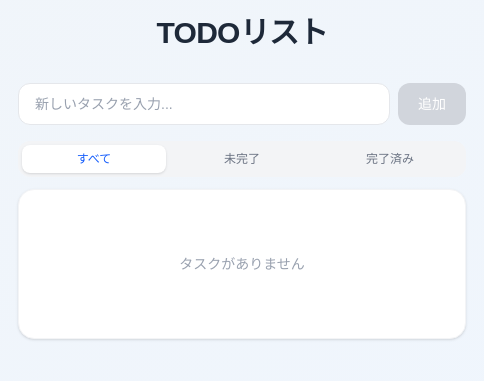
Test case: TodoApp › フィルター › フィルターに一致するTODOがない場合は対応するメッセージを表示する
Expected: the heading "TODOリスト" is shown, [157, 16, 328, 49]
Type "未完了タスク" into the field with placeholder "新しいタスクを入力..." at (204, 104), box [18, 83, 390, 125]
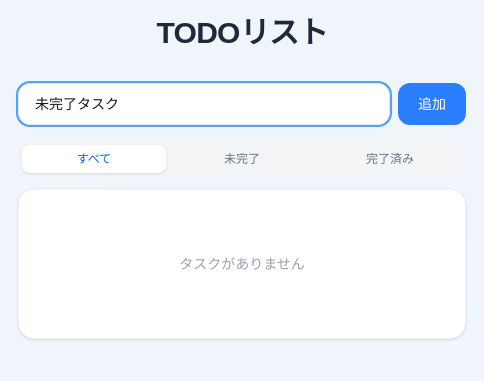
Click the button "追加" at (432, 104), box [398, 83, 466, 125]
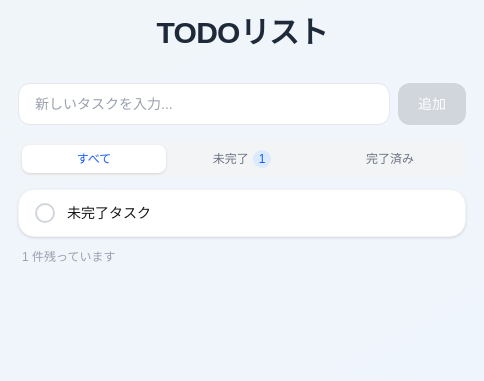
Click the button "完了済み" at (390, 159), box [318, 145, 462, 173]
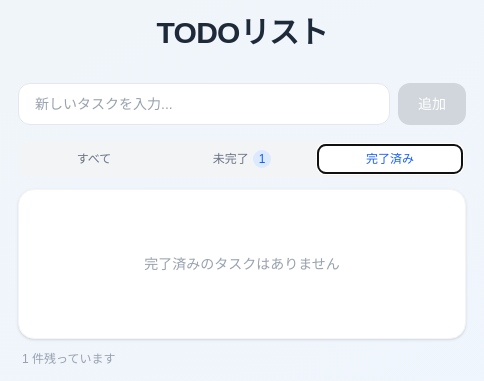
Expected: the text "完了済みのタスクはありません" is shown, [144, 256, 340, 272]
